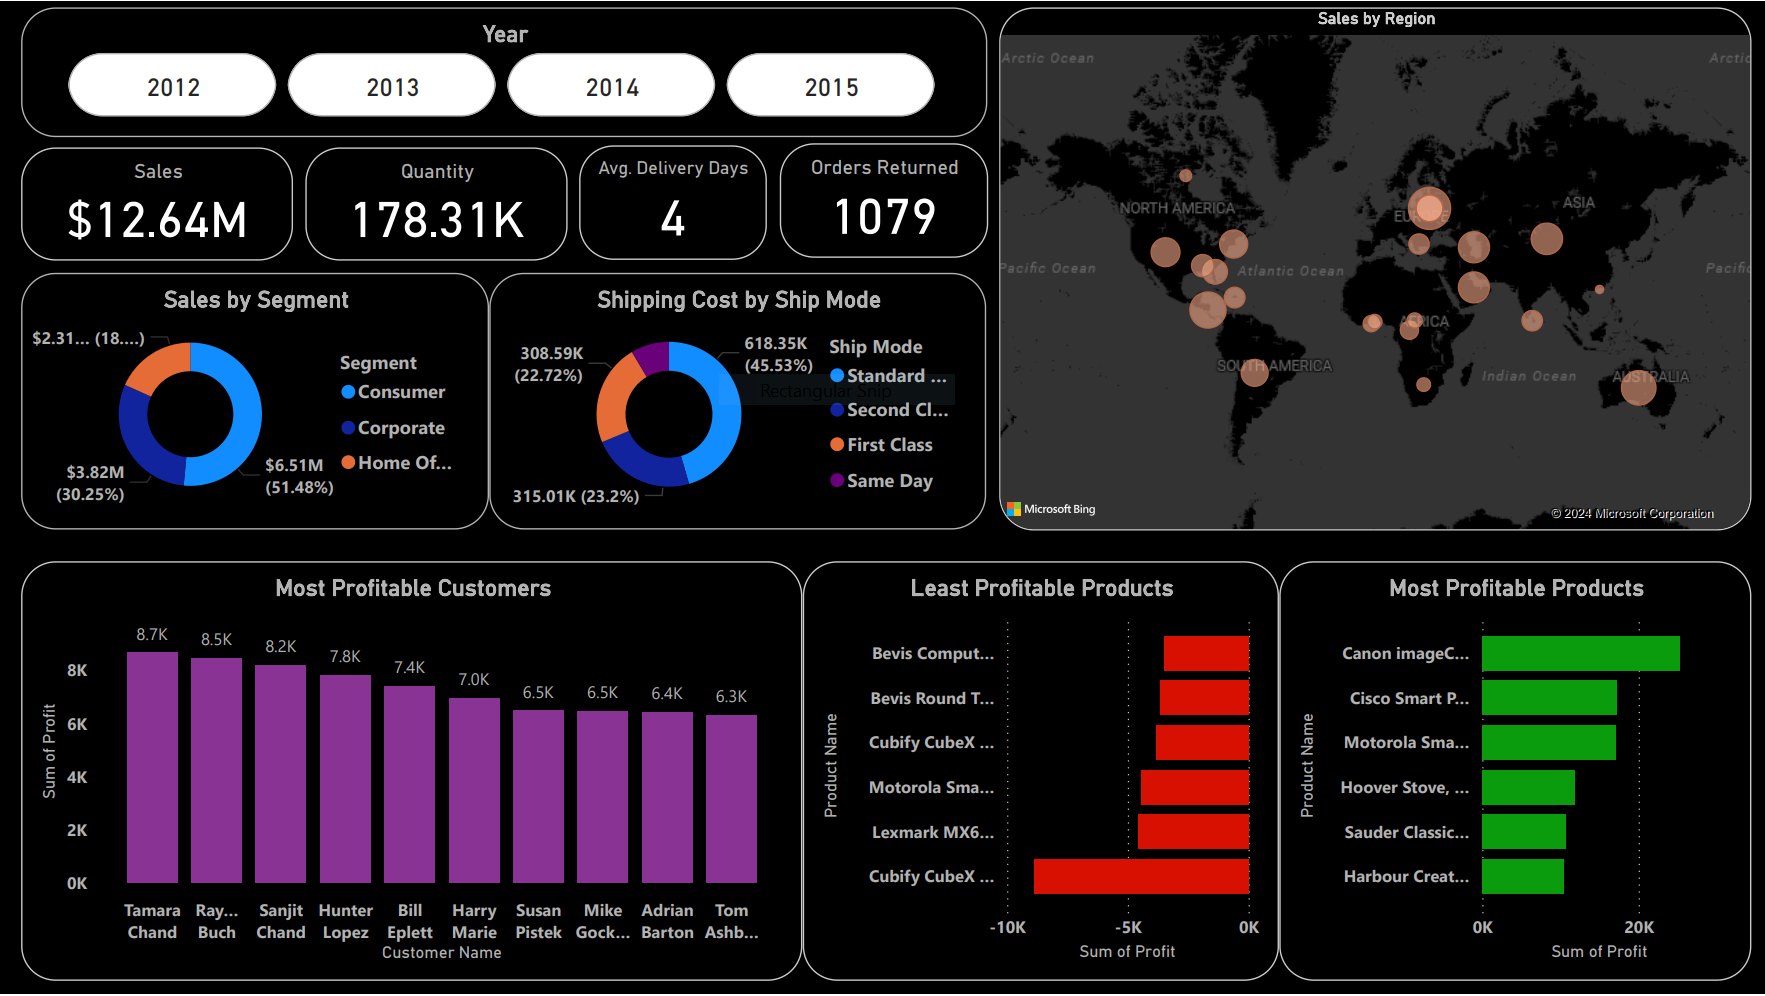

What the dashboard file says about the page in this screenshot:
{"tool":"powerbi","page":{"name":"Page 1","canvas":[1280,720],"ordinal":0},"visuals":[{"type":"card","title":"Sales","fields":{"Values":["Orders.Sales"]},"box":[16.3,106.3,197.3,81.8],"z":0},{"type":"card","title":"Quantity","fields":{"Values":["Orders.Quantity"]},"box":[222.4,106.3,190,81.8],"z":1000},{"type":"card","title":"Avg. Delivery Days","fields":{"Values":["Orders.Delivery days"]},"box":[421.1,104.9,135.9,83.3],"z":2000},{"type":"advancedSlicerVisual","fields":{"Values":["Orders.Year"]},"box":[16.7,4,699.6,93.9],"z":3000},{"type":"card","title":"Orders Returned","fields":{"Values":["Returns.Return Prod"]},"box":[565.8,103.4,150.5,83.3],"z":4000},{"type":"clusteredBarChart","title":"Most Profitable Products","fields":{"Y":["Orders.Profit"],"Category":["Orders.Product Name"]},"box":[928.2,405.9,342,304],"z":5000},{"type":"clusteredBarChart","title":"Least Profitable Products","fields":{"Y":["Orders.Profit"],"Category":["Orders.Product Name"]},"box":[583.3,405.9,344.9,304],"z":6000},{"type":"clusteredColumnChart","title":"Most Profitable Customers","fields":{"Category":["Orders.Customer Name"],"Y":["Orders.Profit"]},"box":[16.7,405.8,566.3,304.4],"z":7000},{"type":"donutChart","title":"Sales by Segment","fields":{"Category":["Orders.Segment"],"Y":["Orders.Sales"]},"box":[16.7,196.3,339.2,186.2],"z":8000},{"type":"donutChart","title":"Shipping Cost by Ship Mode","fields":{"Category":["Orders.Ship Mode"],"Y":["Orders.Shipping Cost"]},"box":[355.8,196.3,360.4,186.2],"z":9000},{"type":"map","title":"Sales by Region","fields":{"Category":["Orders.Region"],"Size":["Orders.Sales"]},"box":[725.3,4,545.1,378.6],"z":10000}]}

Visuals, with their boxes in screenshot pixels (x1, y1, x2, y2), scaled from the page's 1280x720 canvas onto the 1765x996 screenshot:
"Sales" card: 22,147,295,260
"Quantity" card: 307,147,569,260
"Avg. Delivery Days" card: 581,145,768,260
advancedSlicerVisual - Orders.Year: 23,6,988,135
"Orders Returned" card: 780,143,988,258
"Most Profitable Products" clusteredBarChart: 1280,561,1751,982
"Least Profitable Products" clusteredBarChart: 804,561,1280,982
"Most Profitable Customers" clusteredColumnChart: 23,561,804,982
"Sales by Segment" donutChart: 23,272,491,529
"Shipping Cost by Ship Mode" donutChart: 491,272,988,529
"Sales by Region" map: 1000,6,1752,529
